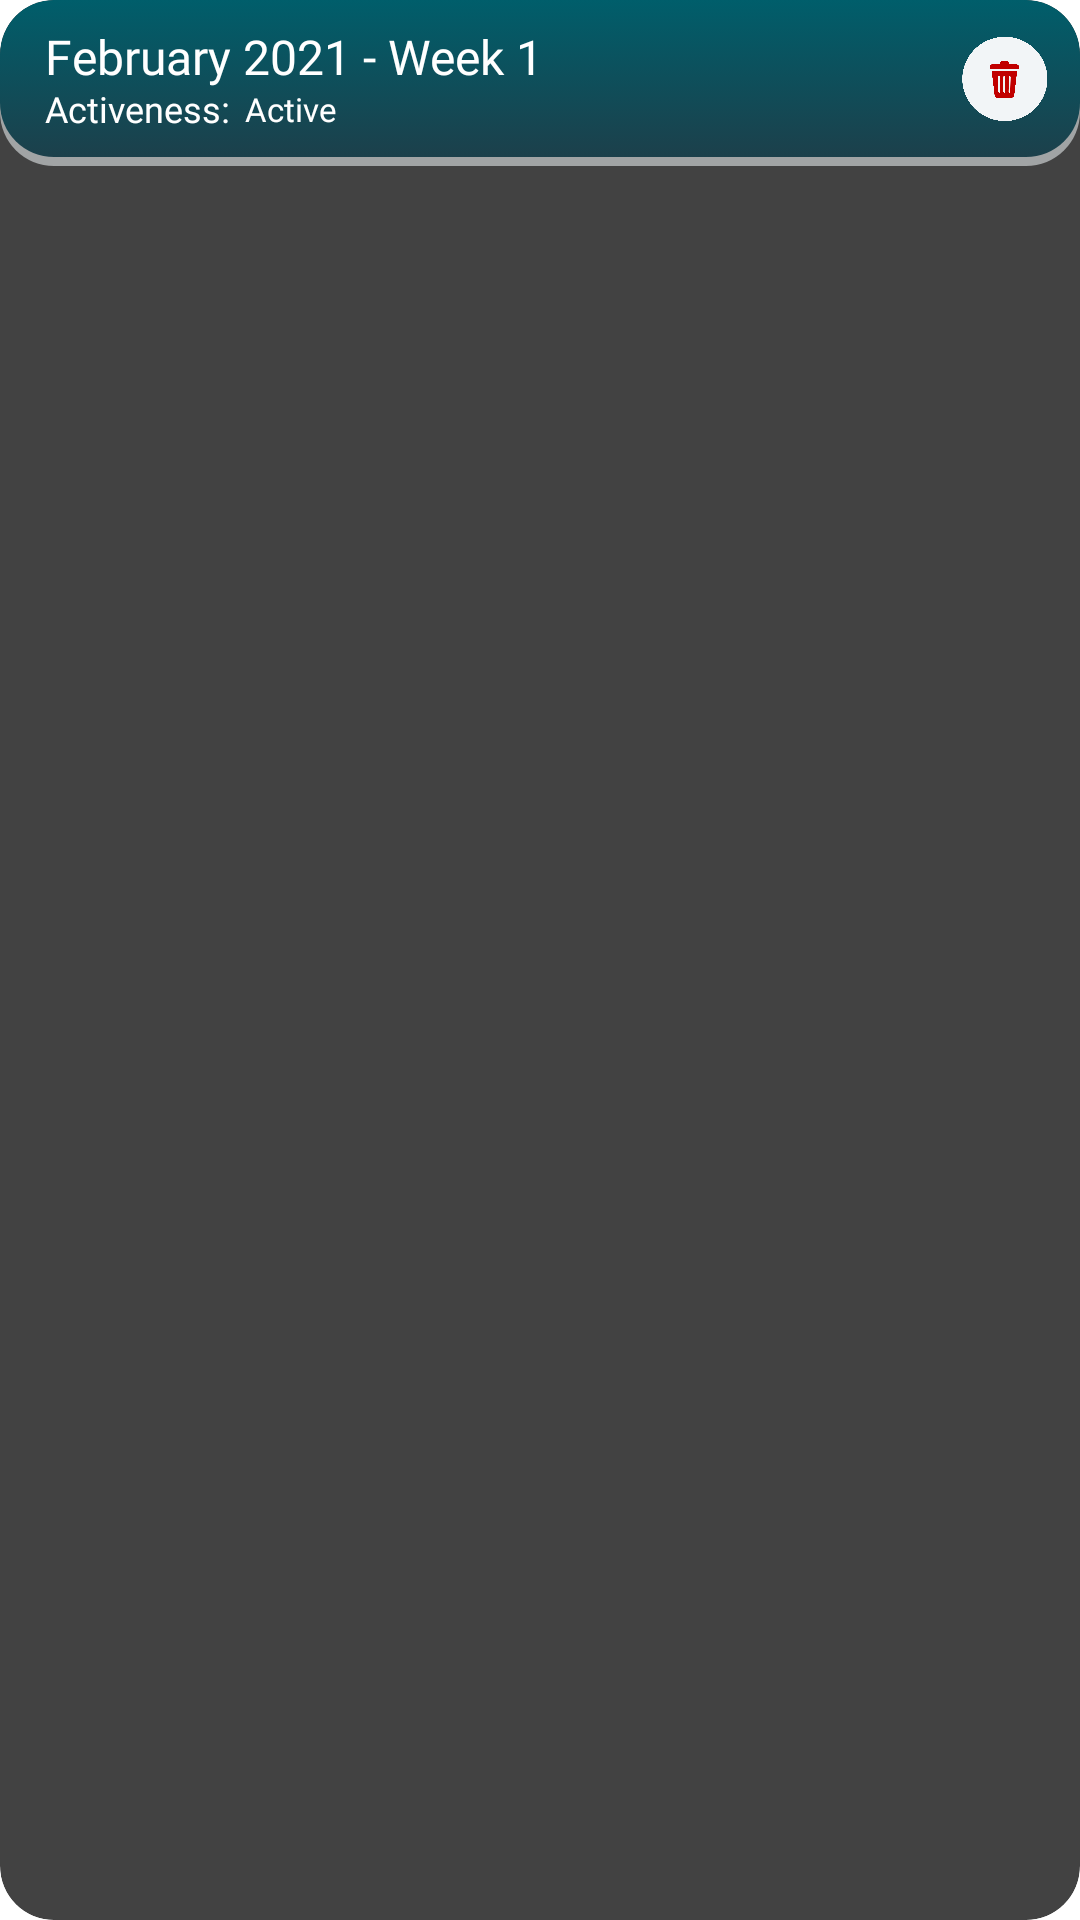

Screen size 1080px x 1920px. Icon name, then its center in pixels as point (x, y):
circled delete: point (1004, 79)
